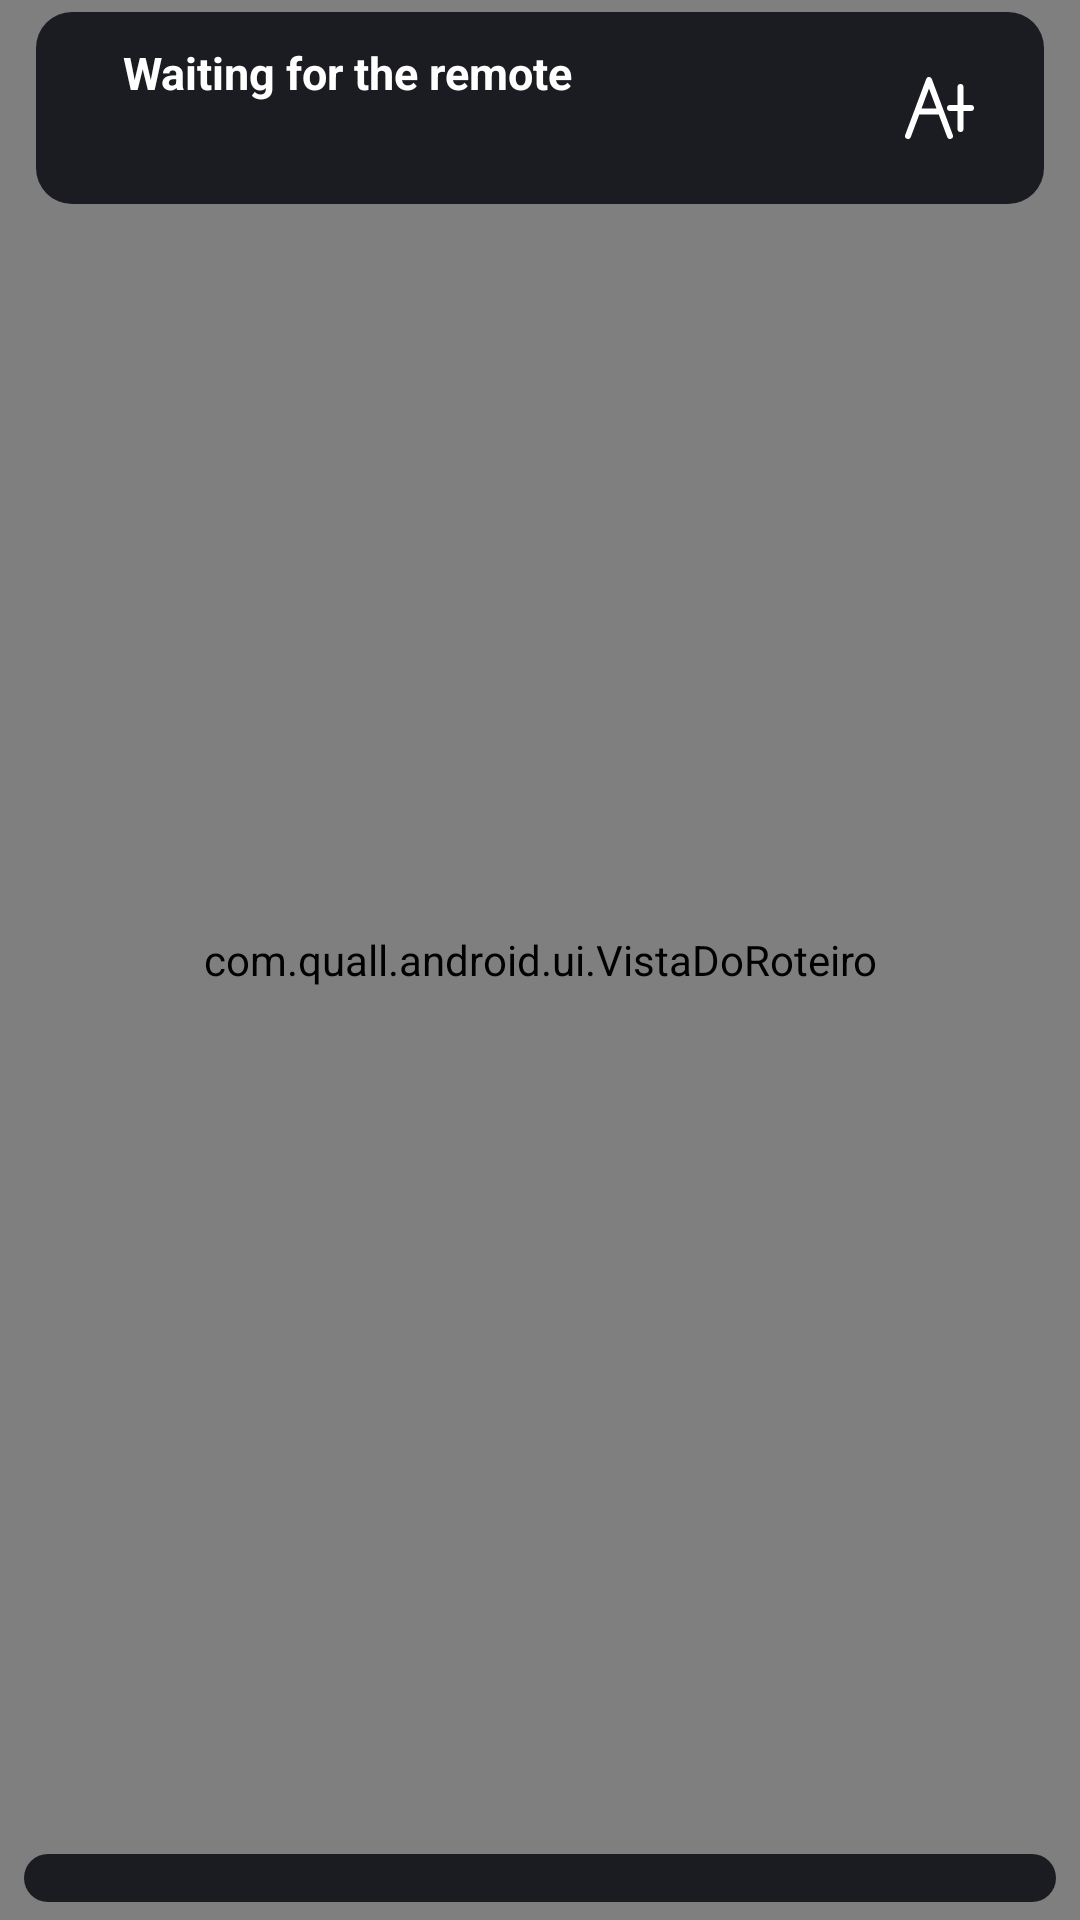

Named icons in this screenshot (1080*1920) and their bounding boxes, Rect(x1, y1, x2, y2):
Show the address and PIN in large type: Rect(905, 77, 974, 139)
